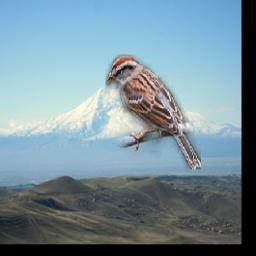Sparrow: (106, 55, 202, 169)
